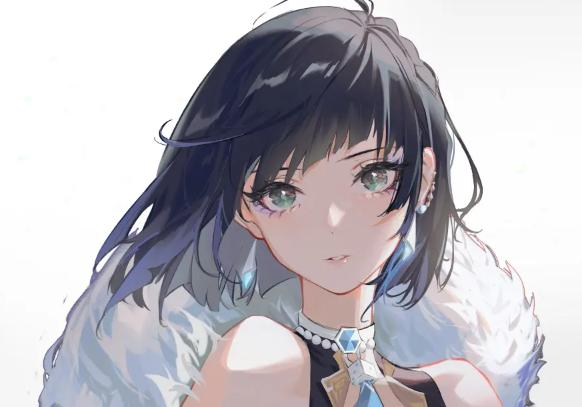夜兰: (118, 6, 508, 404)
